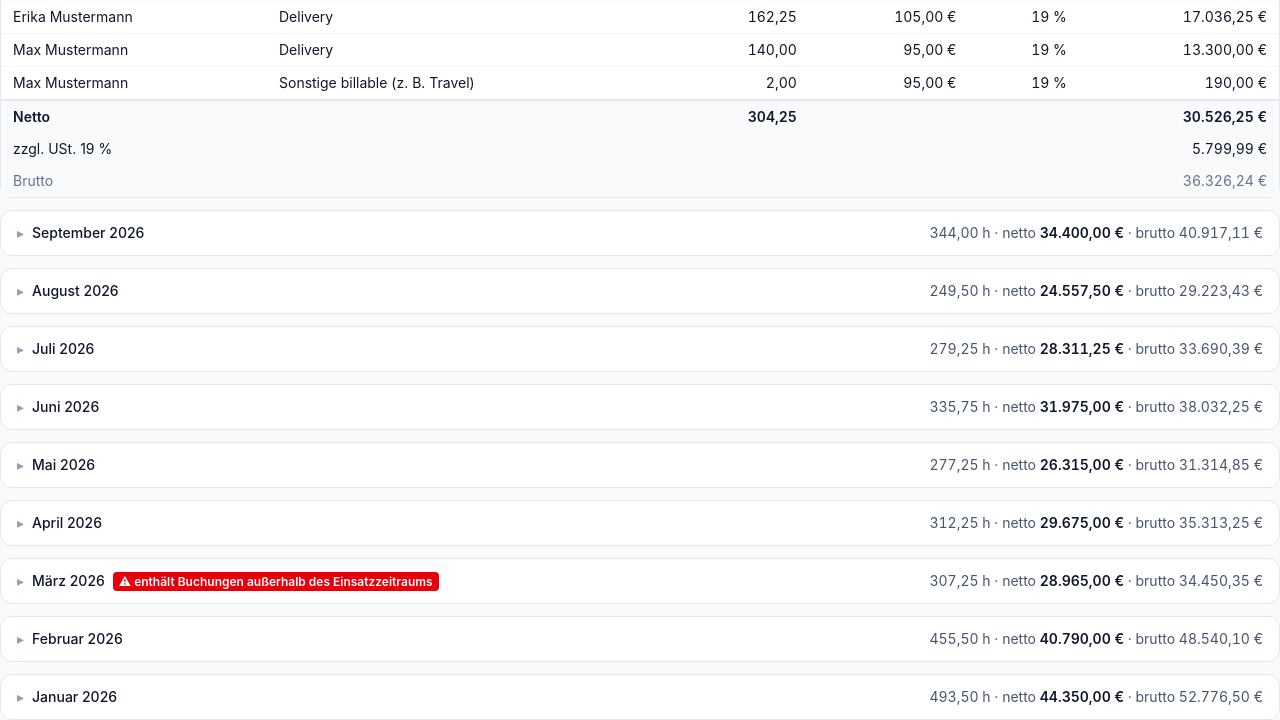
Test: InvoiceView – Buchungen außerhalb des Teams › weist auf abgerechnete und nicht abgerechnete Buchungen hin und markiert die Position
This screenshot has width=1280, height=720.
(page scrolled)
Note: Monatsdetails: Kopf und Position markiert
Click the text "März 2026".
click(228, 581)  # box 17,571 -> 439,591
(page scrolled)
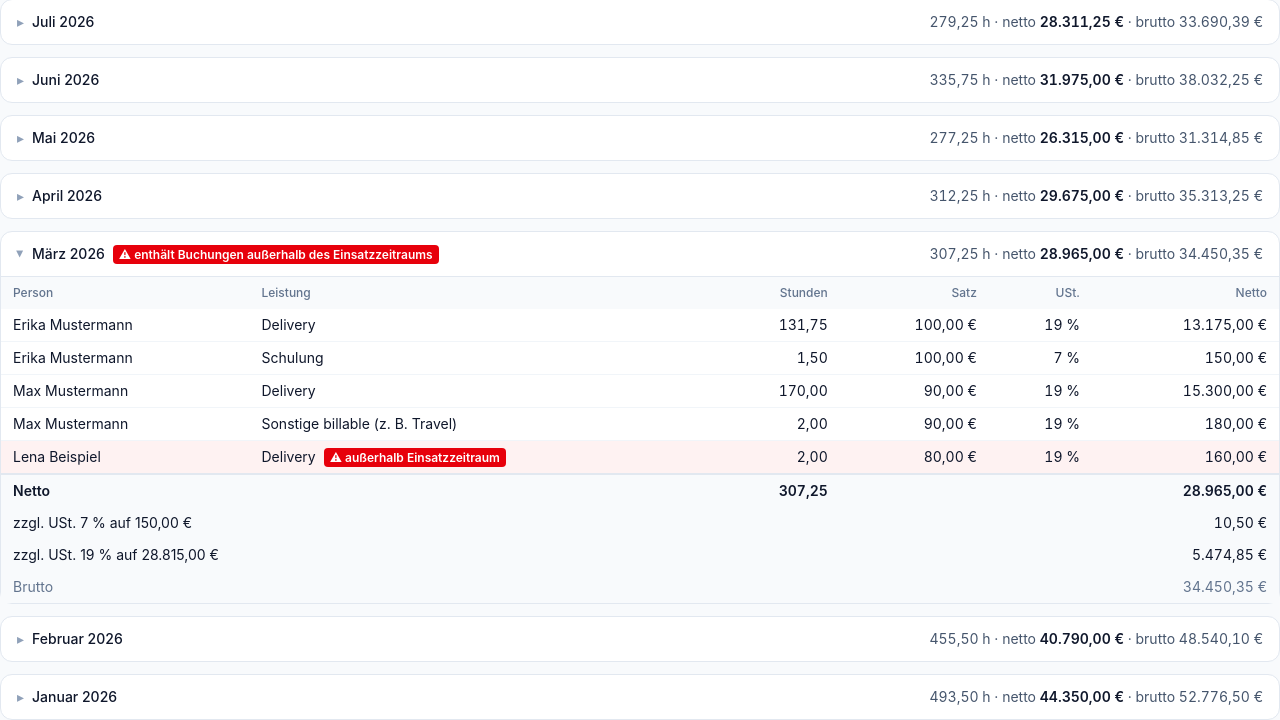
expect the text "⚠ enthält Buchungen außerhalb des Einsatzzeitraums" is shown: met, box 113,245 -> 439,264
expect the text "⚠ außerhalb Einsatzzeitraum" shows "Lena Beispiel": met, box 13,448 -> 101,465
